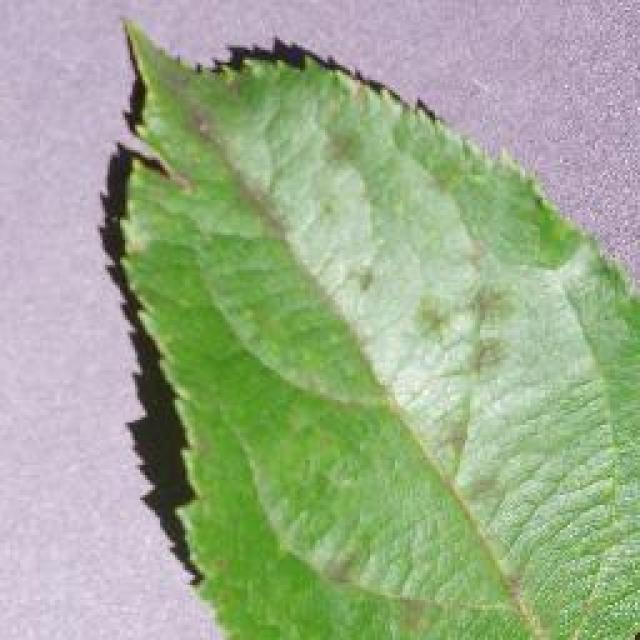apple scab disease: (100, 15, 638, 637)
